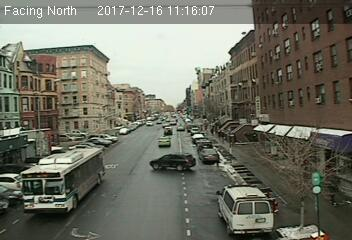bus: (20, 146, 105, 215)
car: (200, 148, 218, 161), (157, 136, 171, 148)
police: (215, 182, 274, 237)
